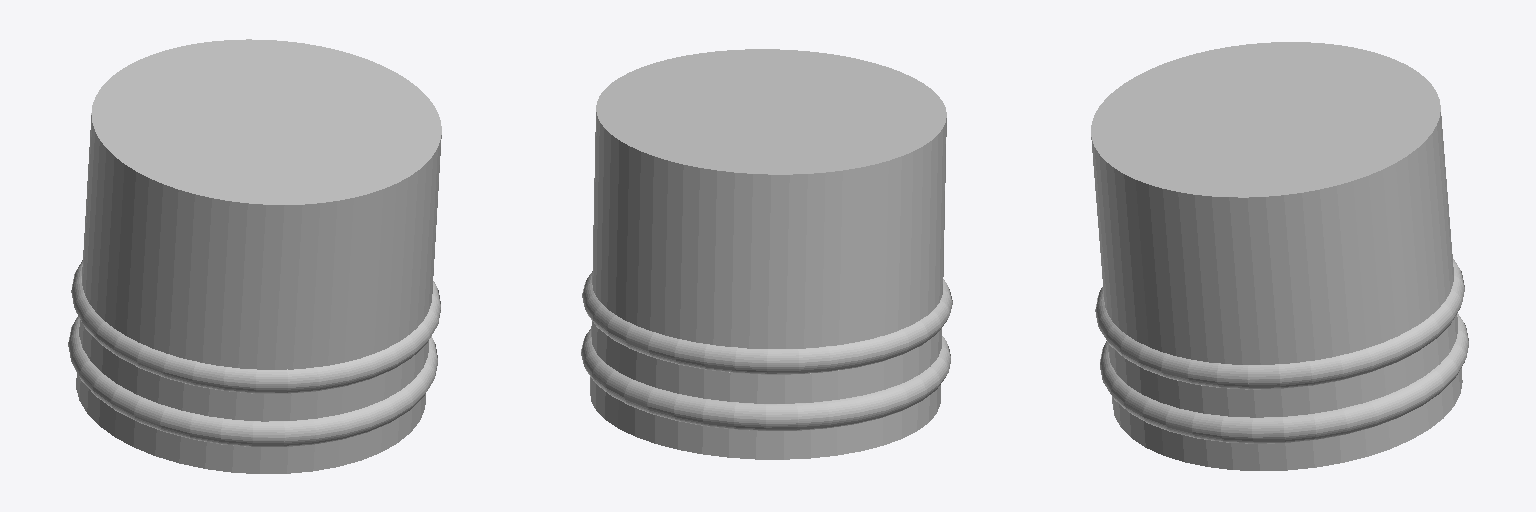
Rendered from bombilla202.obj.
3 renders of one model, left to right at view 1: azimuth 30°, elevation 25°; view 2: azimuth 150°, elevation 25°; view 3: azimuth 270°, elevation 25°, orthographic.
Visible parts, largest first — view 1: Cylinder001, Cylinder004, Cylinder002, Cylinder003, Cylinder006; view 2: Cylinder001, Cylinder004, Cylinder003, Cylinder006, Cylinder002; view 3: Cylinder001, Cylinder004, Cylinder003, Cylinder002, Cylinder006.
Part boxes in pixels (left/top/right/bottom): Cylinder001: left=82, top=39, right=441, bottom=369; Cylinder004: left=68, top=316, right=437, bottom=446; Cylinder002: left=71, top=260, right=440, bottom=393; Cylinder003: left=79, top=320, right=428, bottom=421; Cylinder006: left=76, top=373, right=425, bottom=473; Cylinder001: left=592, top=49, right=946, bottom=348; Cylinder004: left=581, top=329, right=950, bottom=430; Cylinder003: left=591, top=321, right=941, bottom=403; Cylinder006: left=590, top=377, right=940, bottom=459; Cylinder002: left=582, top=271, right=952, bottom=374; Cylinder001: left=1091, top=42, right=1453, bottom=364; Cylinder004: left=1100, top=313, right=1468, bottom=443; Cylinder003: left=1108, top=315, right=1457, bottom=417; Cylinder002: left=1095, top=259, right=1464, bottom=389; Cylinder006: left=1112, top=368, right=1462, bottom=470.
Size of the model in its own units: 72.45 by 64.44 by 73.82.